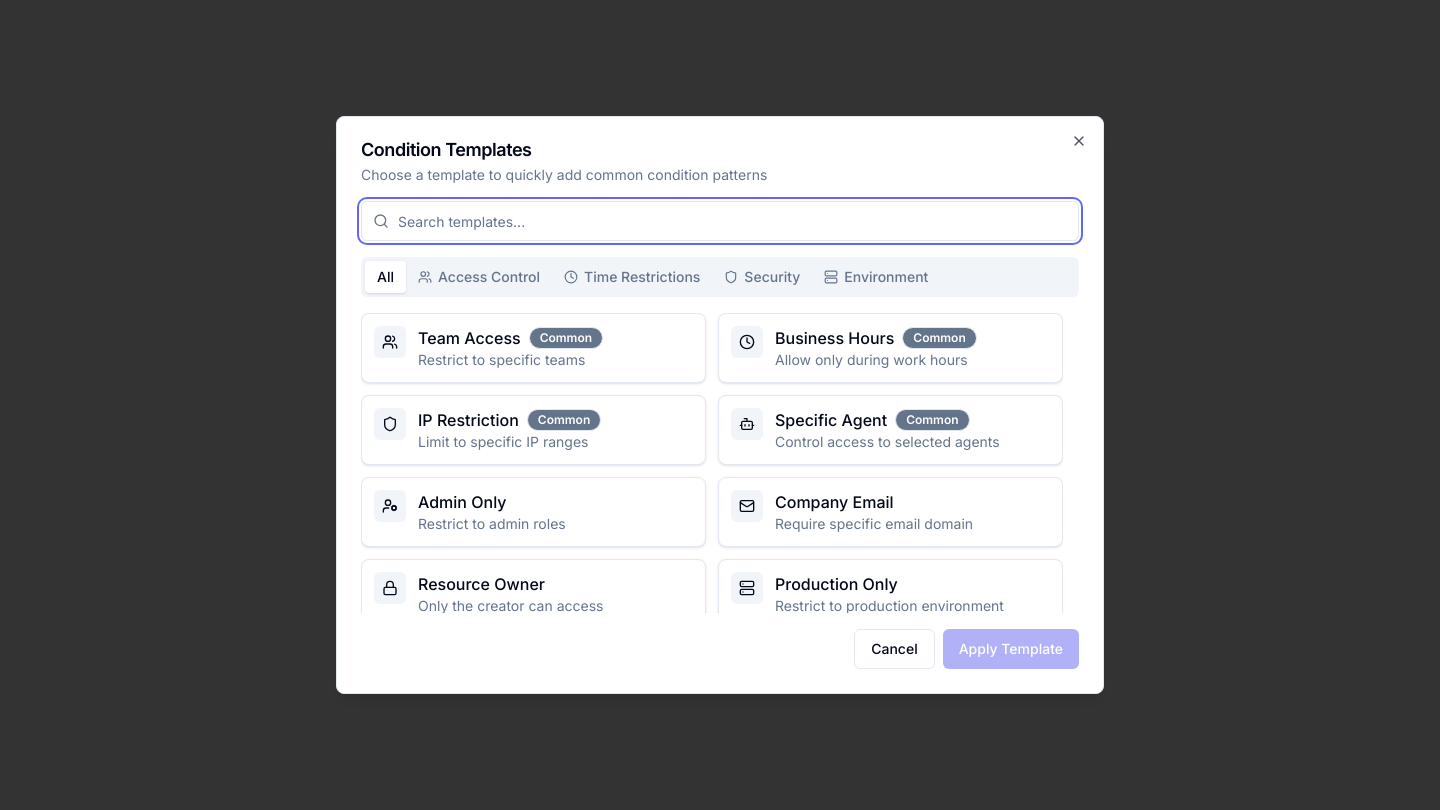
Test case: ConditionTemplatesModal › category tab filtering › filters templates by Security category
The image size is (1440, 810).
Click the tab "Security" at (762, 277), box [712,261,812,293]
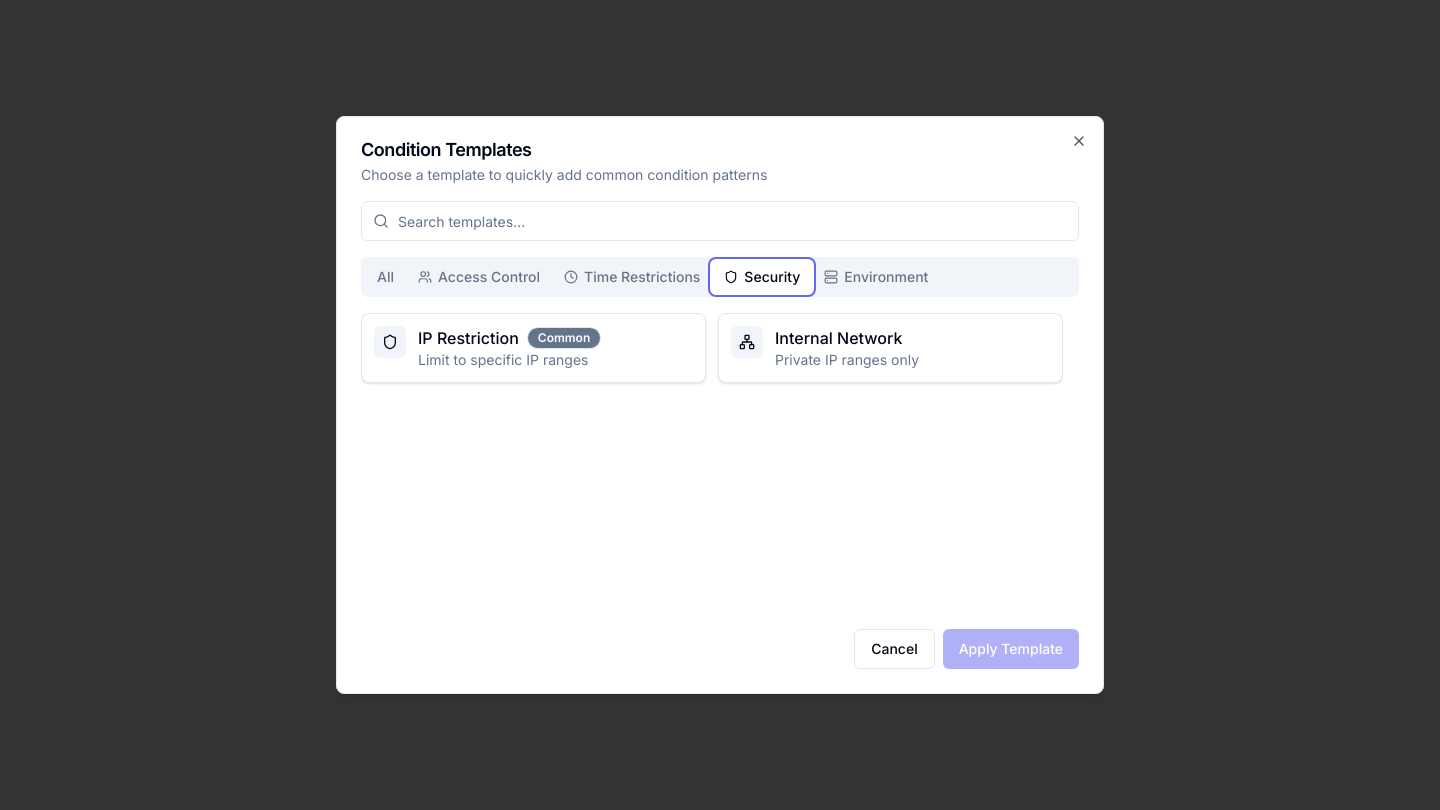
Check: the text "IP Restriction" is shown, box [418,326,519,350]
Check: the text "Internal Network" is shown, box [775,326,902,350]
